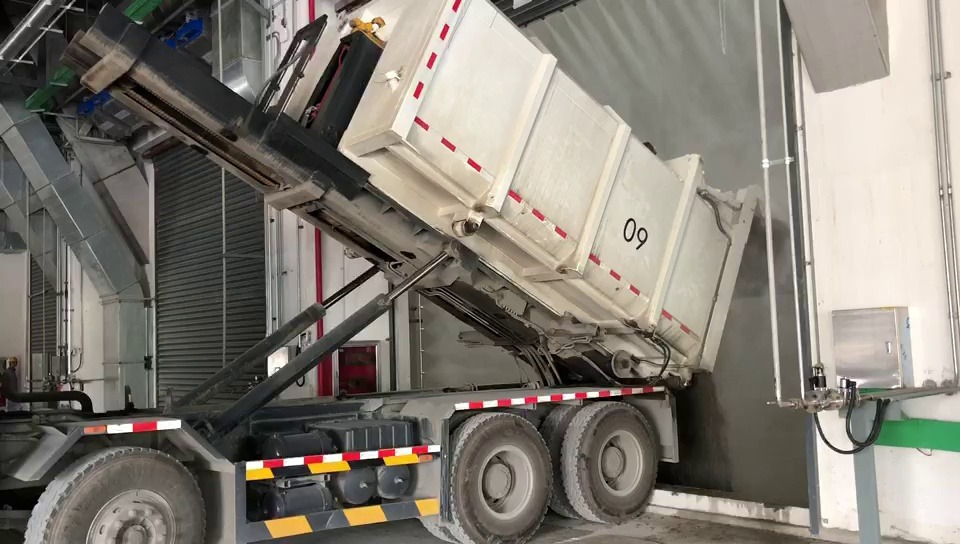truck: (2, 0, 747, 543)
